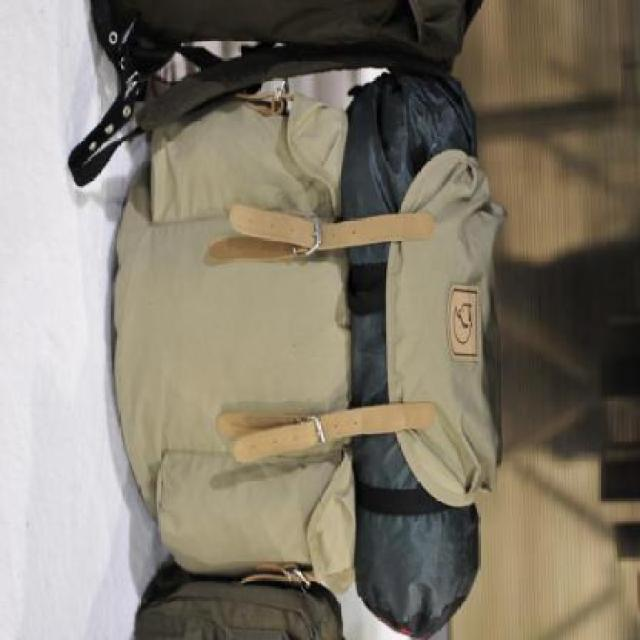backpack: (111, 63, 506, 640)
